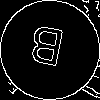B: (25, 25, 66, 76)
